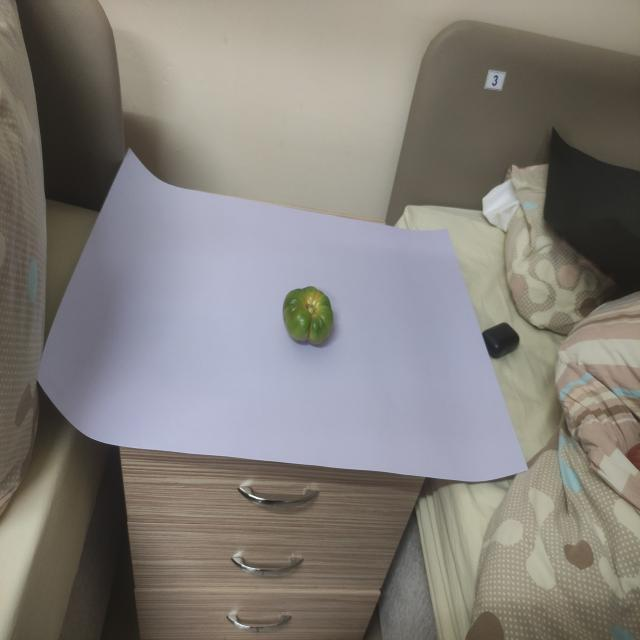yesil: (275, 267, 349, 358)
